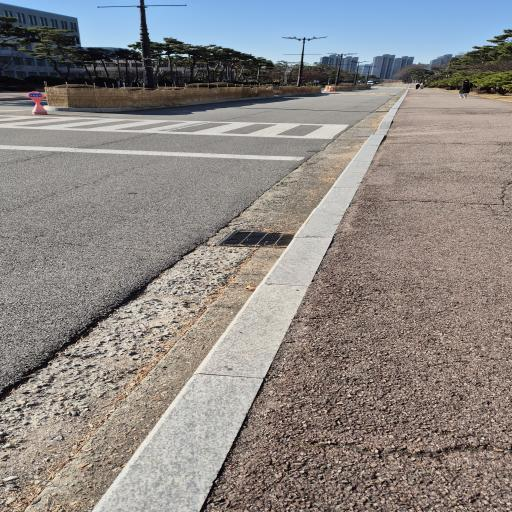drain: (218, 230, 295, 247)
